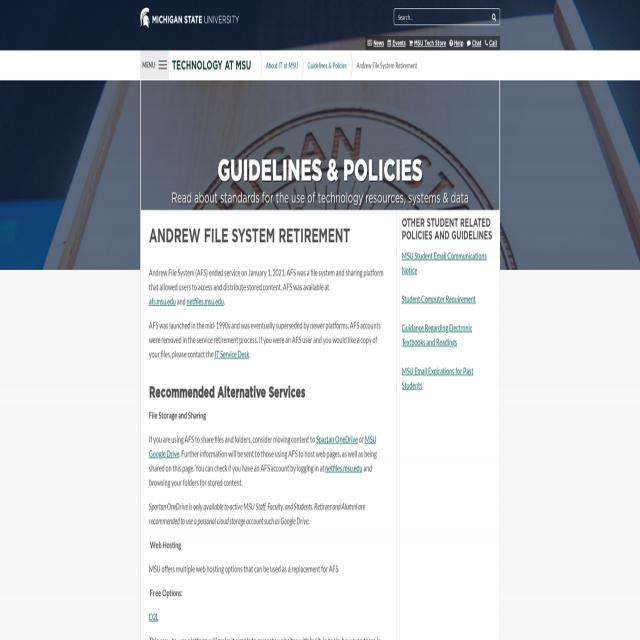button: (140, 0, 239, 28), (141, 51, 169, 79), (488, 9, 500, 26)
field: (394, 9, 501, 26)
